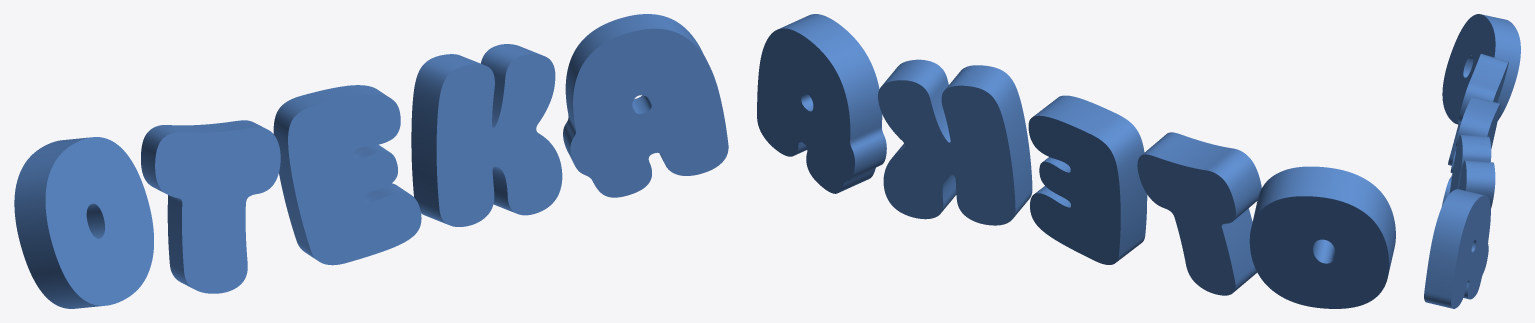
Rendered from OTEKA.glb.
The picture shows the model from 3 angles, left to right: view 1: azimuth 30°, elevation 25°; view 2: azimuth 150°, elevation 25°; view 3: azimuth 270°, elevation 25°; orthographic projection. The views are drawn at different scales.
Visible parts, largest first — view 1: Letter A, Letter K, Letter E, Letter O, Letter T; view 2: Letter K, Letter O, Letter A, Letter E, Letter T; view 3: Letter A, Letter O, Letter K, Letter T, Letter E.
Boxes of the visible parts, <box> form: Letter A: <box>563,14,728,197</box>; Letter K: <box>411,44,562,226</box>; Letter E: <box>273,85,421,265</box>; Letter O: <box>14,137,153,308</box>; Letter T: <box>141,120,280,293</box>; Letter K: <box>878,59,1032,225</box>; Letter O: <box>1249,166,1395,308</box>; Letter A: <box>757,14,886,193</box>; Letter E: <box>1028,95,1147,264</box>; Letter T: <box>1137,132,1261,295</box>; Letter A: <box>1424,189,1490,308</box>; Letter O: <box>1442,14,1520,124</box>; Letter K: <box>1449,134,1495,208</box>; Letter T: <box>1448,53,1508,165</box>; Letter E: <box>1442,96,1500,205</box>.
Bounding box in the file's own units: 4.07 × 0.9688 × 0.753.
